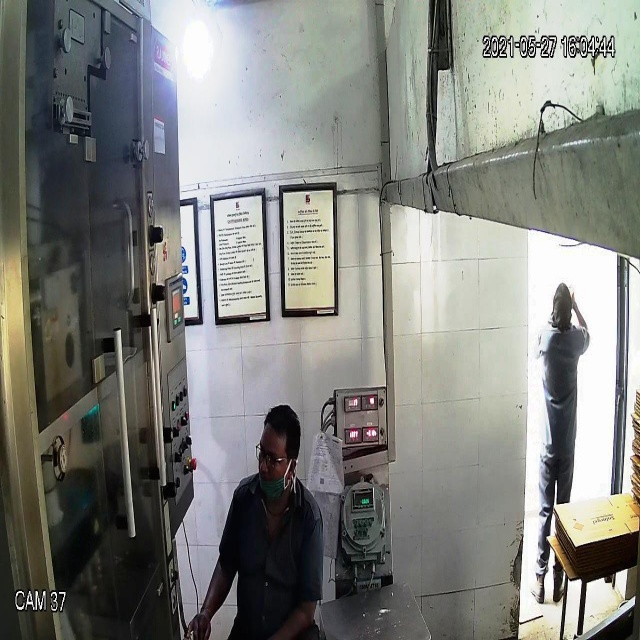Gafas: (252, 438, 299, 477)
